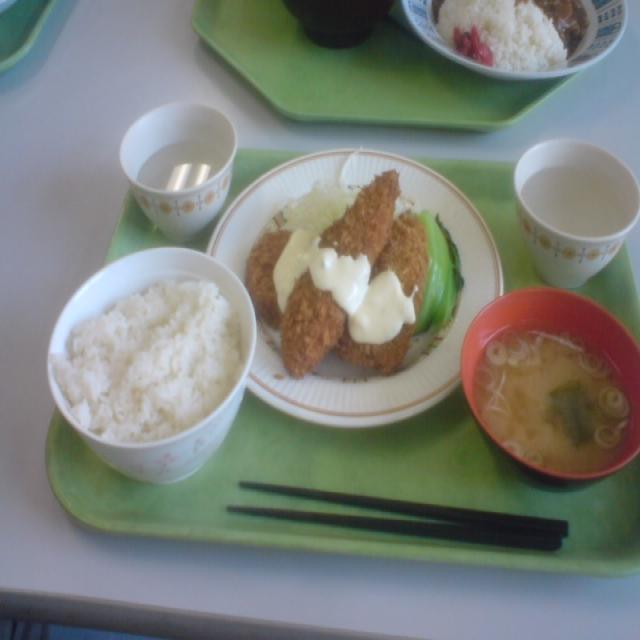Rice: (73, 244, 235, 458)
